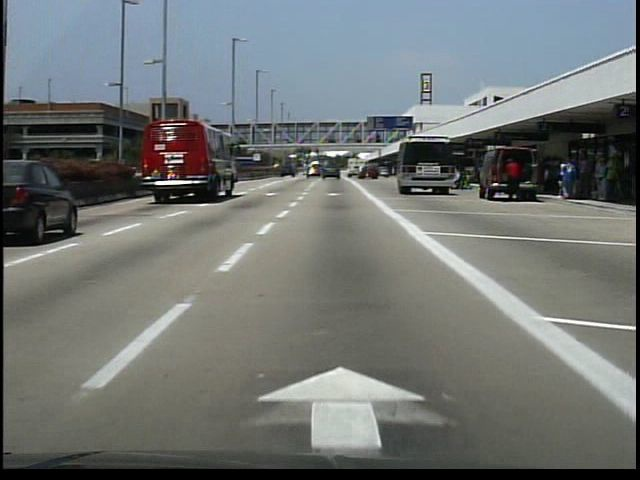person: (503, 155, 523, 208), (449, 168, 471, 194)
